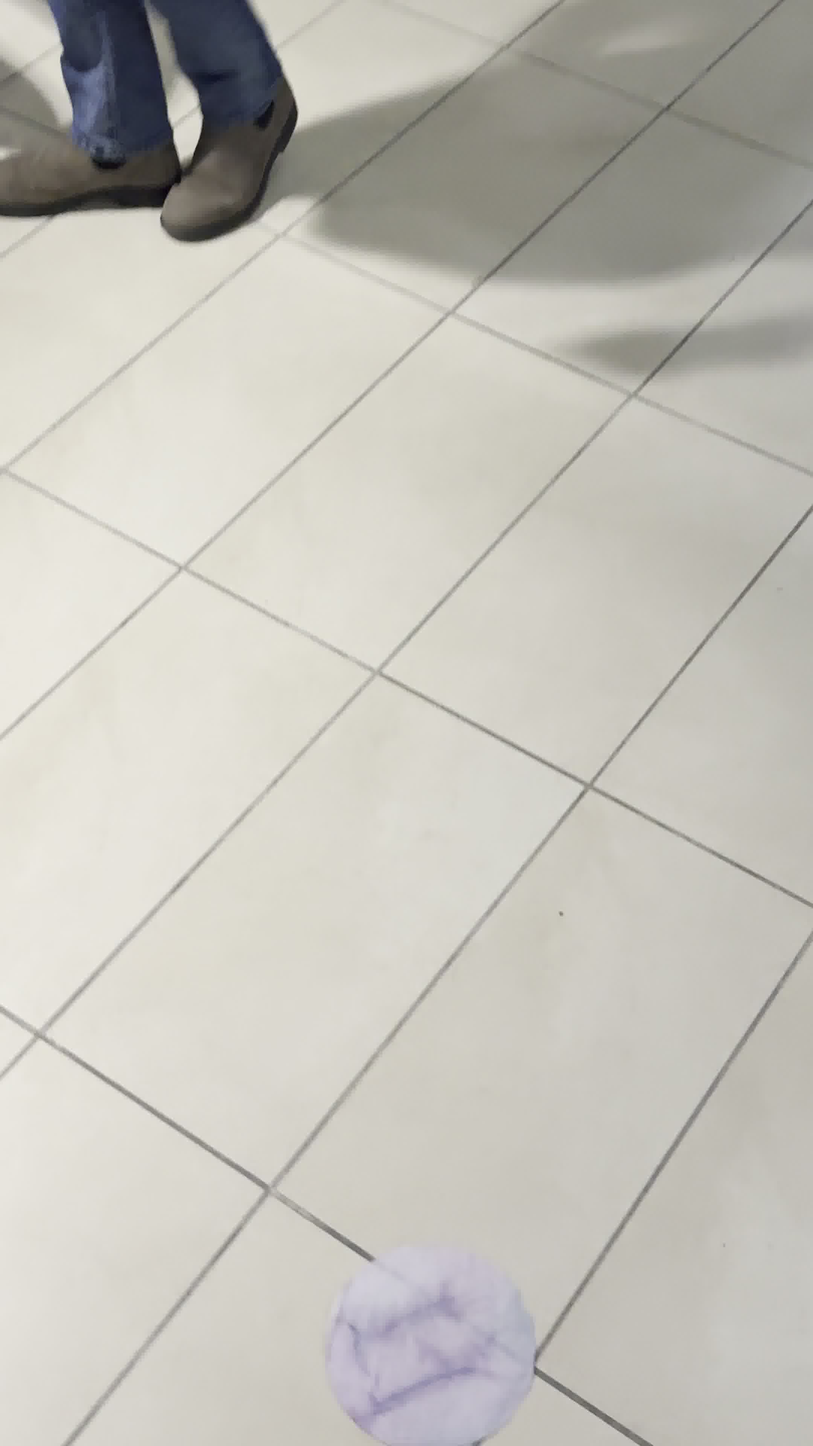Target: (325, 1247, 535, 1446)
